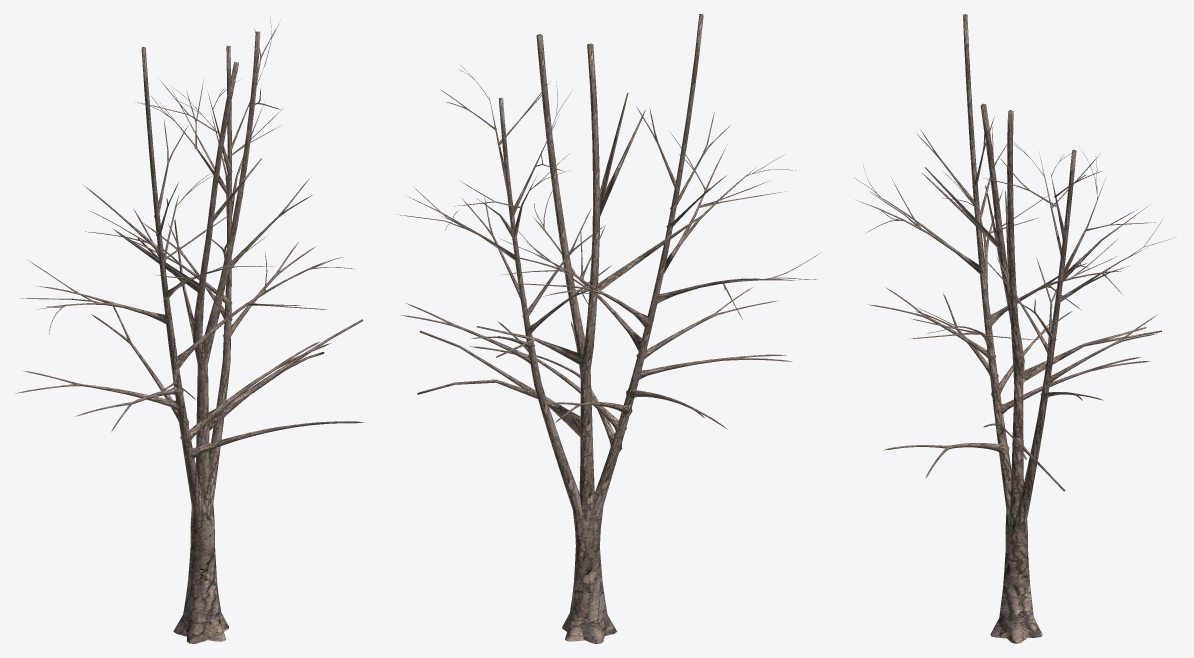
The model's file is TreeA.fbx.
3 renders of one model, left to right at view 1: azimuth 30°, elevation 25°; view 2: azimuth 150°, elevation 25°; view 3: azimuth 270°, elevation 25°, orthographic. The views are drawn at different scales.
Visible parts, largest first — view 1: bark08_0; view 2: bark08_0; view 3: bark08_0.
Boxes of the visible parts, bbox=[...] form: bark08_0: bbox=[15, 17, 364, 643]; bark08_0: bbox=[398, 14, 821, 643]; bark08_0: bbox=[854, 14, 1176, 643].
Size of the model in its own units: 162 by 267 by 137.
Materials: 1 (1 with a texture image).
